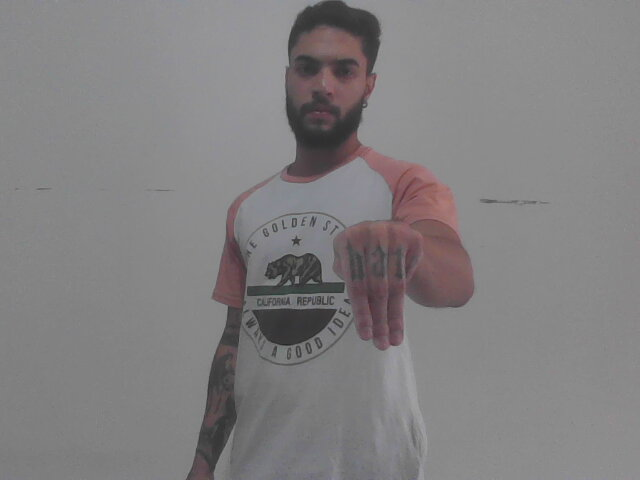m: (327, 214, 430, 354)
